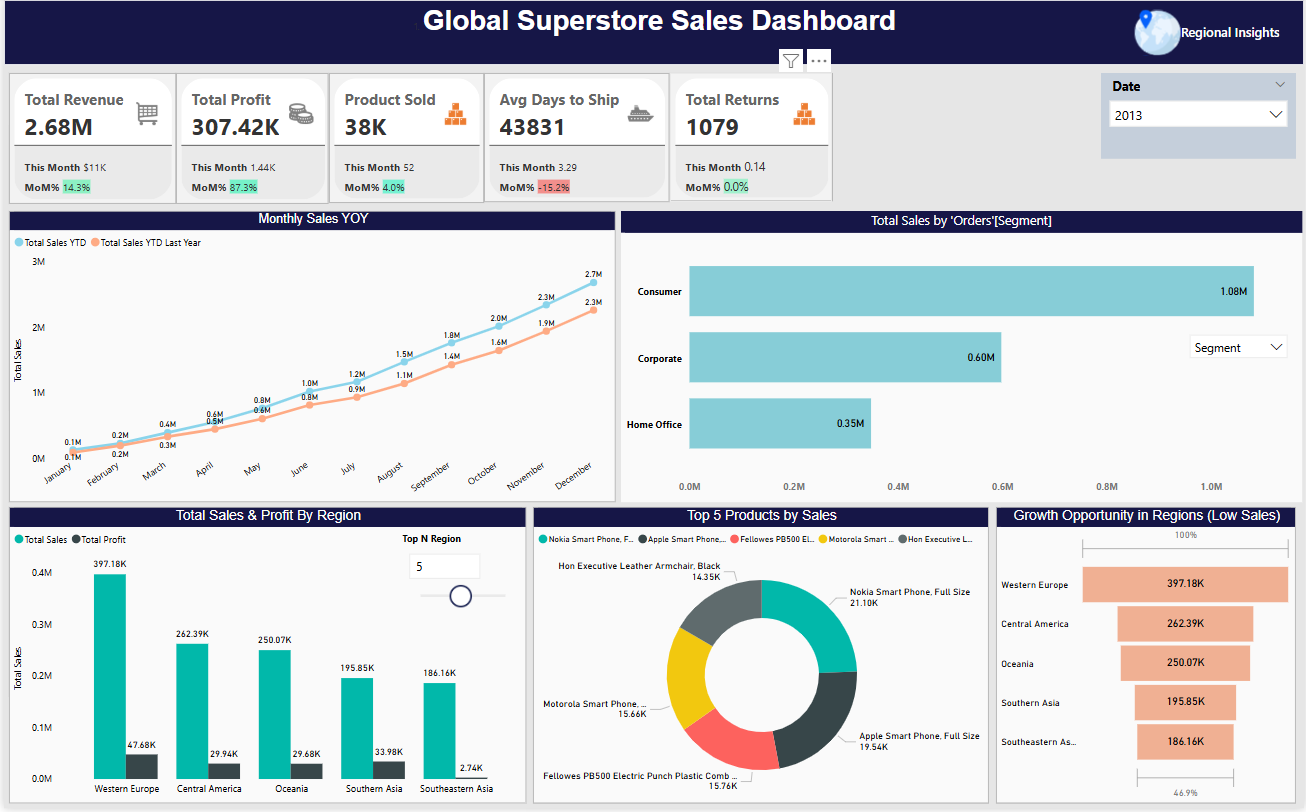

This screenshot's page, from the dashboard's own definition file:
{"tool":"powerbi","page":{"name":" Executive Summary ","canvas":[1500,932],"ordinal":0},"visuals":[{"type":"textbox","box":[0,0,1500,75],"z":0},{"type":"donutChart","title":"Top 5 Products by Sales","fields":{"Category":["Orders.Product Name"],"Y":["Orders.Total Sales YTD"]},"box":[610.4,585,526.2,341.5],"z":1000},{"type":"funnel","title":"Growth Opportunity in Regions (Low Sales)","fields":{"Category":["Orders.Region"],"Y":["Sum(Orders.Sales)"]},"box":[1144.6,585,346.2,341.5],"z":2000},{"type":"lineChart","title":"Monthly Sales YOY","fields":{"Y":["Orders.Total Sales YTD","Orders.Total YTD Last Year"],"Category":["Orders.Order Date.Variation.Date Hierarchy.Month"]},"box":[5.8,243.5,700.4,335.8],"z":3000},{"type":"slicer","fields":{"Values":["Orders.Order Date.Variation.Date Hierarchy.Year","Orders.Order Date.Variation.Date Hierarchy.Month"]},"box":[1130.8,84.2,174,108],"z":5000},{"type":"cardVisual","fields":{"Data":["Orders.Total Sales"]},"box":[5.8,84.7,192.7,150.9],"z":6000},{"type":"cardVisual","fields":{"Data":["Orders.Total Profit"]},"box":[198.5,84.7,176.5,150.9],"z":7000},{"type":"cardVisual","fields":{"Data":["Sum(Orders.Quantity)"]},"box":[375,84.7,178.8,149.8],"z":8000},{"type":"cardVisual","fields":{"Data":["Sum(Orders.Avg Delivery Days)"]},"box":[553.8,84.7,213.6,148.6],"z":9000},{"type":"cardVisual","fields":{"Data":["CountNonNull(Returns.Returned)"]},"box":[767.9,84.7,187.8,148.3],"z":10000},{"type":"clusteredColumnChart","title":"Total Sales & Profit By Region","fields":{"Category":["Orders.Region"],"Y":["Orders.Total Sales","Orders.Total Profit"]},"box":[5.8,585,596.5,341.5],"z":11000},{"type":"clusteredBarChart","fields":{"Category":["Orders.Segment"],"Y":["Orders.Total Sales"]},"box":[711.9,243.5,785.8,335.8],"z":12000},{"type":"slicer","title":"Top N Region","fields":{"Values":["Top N Region 2.Top N Region"]},"box":[1320,84.2,174,108],"z":13000},{"type":"slicer","title":"Slicer  Dynamic Field","fields":{"Values":["Axis Changer.Axis Changer"]},"box":[1358.1,376.2,132.7,48.5],"z":13001},{"type":"actionButton","title":"btn_Globe","box":[1294.6,0,182.3,75],"z":13002}]}

Visuals, with their boxes in screenshot pixels (x1, y1, x2, y2), scaled from the page's 1500x932 canvas onto the 1306x812 screenshot:
textbox: (0,0,1305,65)
"Top 5 Products by Sales" donutChart: (531,510,990,807)
"Growth Opportunity in Regions (Low Sales)" funnel: (997,510,1298,807)
"Monthly Sales YOY" lineChart: (5,212,615,505)
slicer - Orders.Order Date.Variation.Date Hierarchy.Year x Orders.Order Date.Variation.Date Hierarchy.Month: (985,73,1136,167)
cardVisual - Orders.Total Sales: (5,74,173,205)
cardVisual - Orders.Total Profit: (173,74,326,205)
cardVisual - Sum(Orders.Quantity): (326,74,482,204)
cardVisual - Sum(Orders.Avg Delivery Days): (482,74,668,203)
cardVisual - CountNonNull(Returns.Returned): (669,74,832,203)
"Total Sales & Profit By Region" clusteredColumnChart: (5,510,524,807)
clusteredBarChart - Orders.Segment x Orders.Total Sales: (620,212,1304,505)
"Top N Region" slicer: (1149,73,1301,167)
"Slicer  Dynamic Field" slicer: (1182,328,1298,370)
"btn_Globe" actionButton: (1127,0,1286,65)
